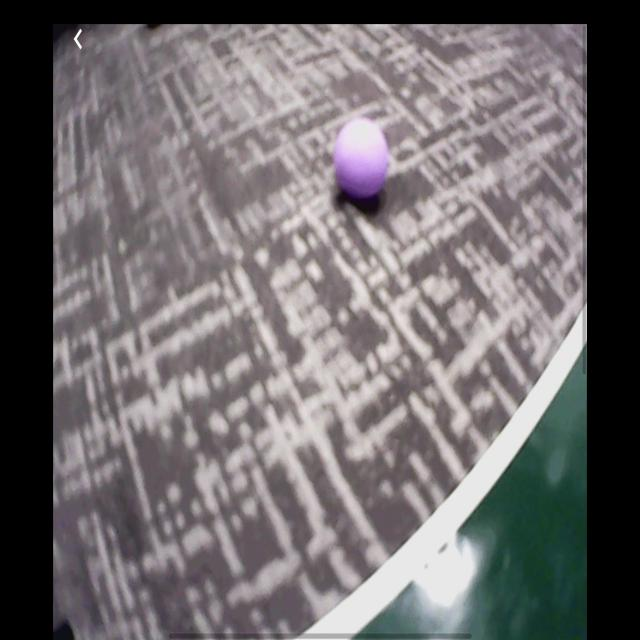ball: (337, 122, 389, 201)
